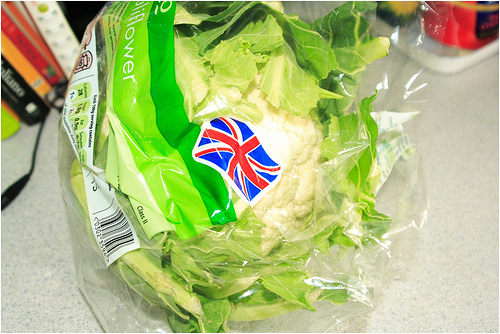cauliflower: (61, 1, 391, 333)
